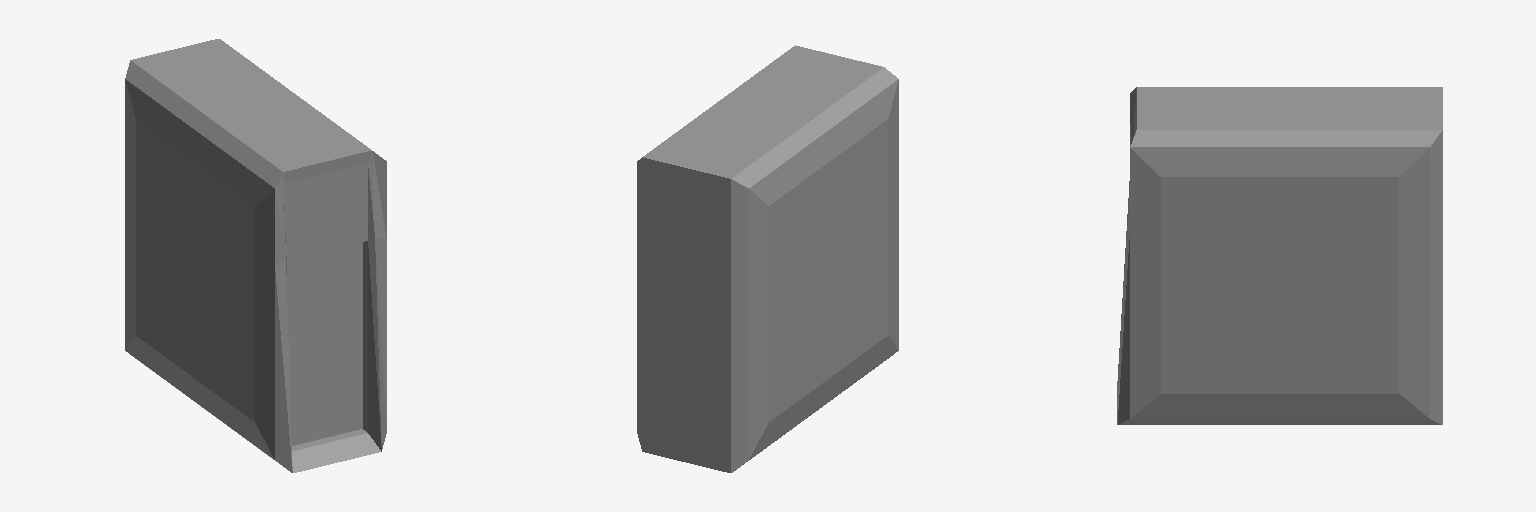
Rendered from torre.obj.
The picture shows the model from 3 angles: view 1: azimuth 30°, elevation 25°; view 2: azimuth 150°, elevation 25°; view 3: azimuth 270°, elevation 25°; orthographic projection.
Parts seen in each view (by area): view 1: Cube; view 2: Cube; view 3: Cube.
Part boxes in pixels (left/top/right/bottom): Cube: left=125, top=39, right=386, bottom=472; Cube: left=637, top=45, right=898, bottom=472; Cube: left=1117, top=87, right=1442, bottom=424.
Size of the model in its own units: 4.48 by 10.41 by 10.41.